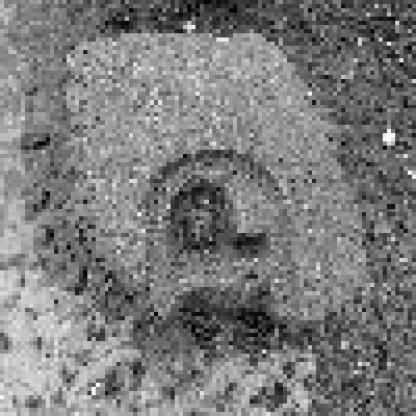brick: (3, 2, 412, 411)
